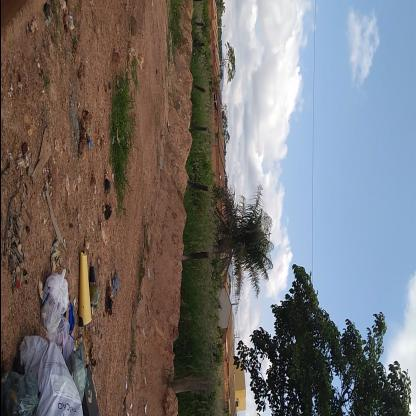lixo: (9, 248, 97, 415)
